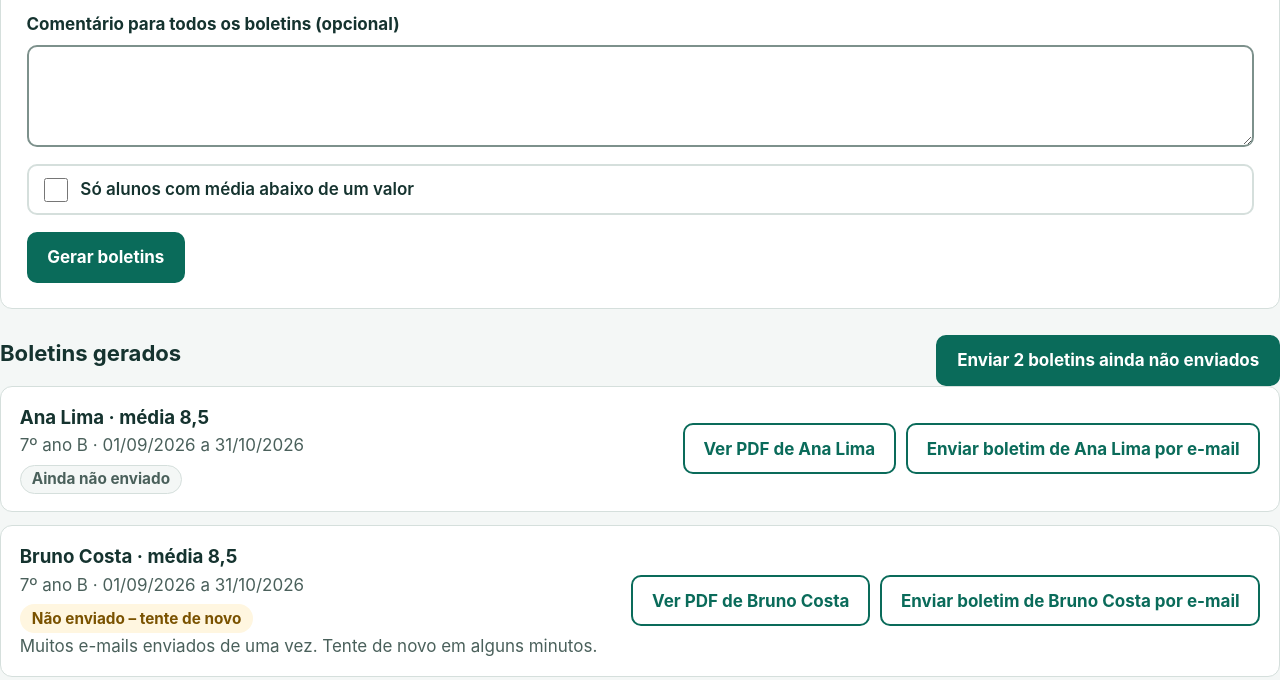
Test case: sending bulletins › sends every pending bulletin together and reports failures
This screenshot has width=1280, height=680.
(page scrolled)
Click the button "Enviar 2 boletins ainda não enviados".
click(1108, 360)  # box [936,334,1279,386]
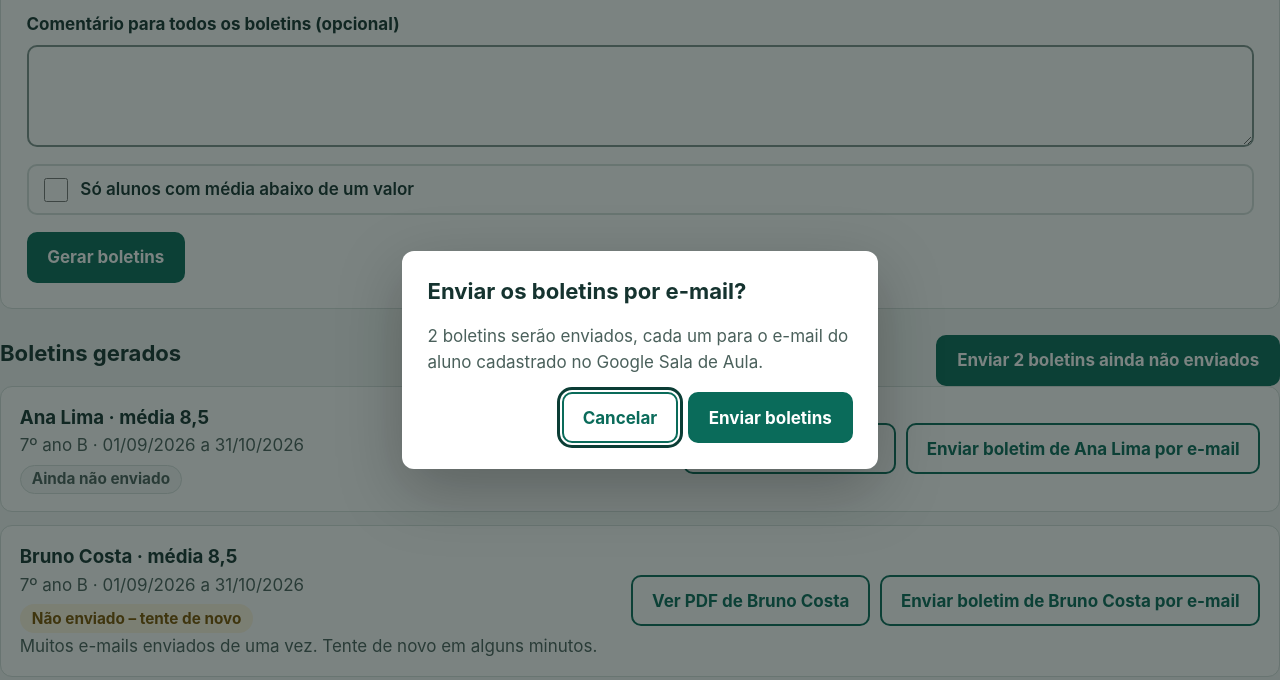
Click the button "Enviar boletins".
click(770, 418)  # box [688,392,852,443]
(page scrolled)
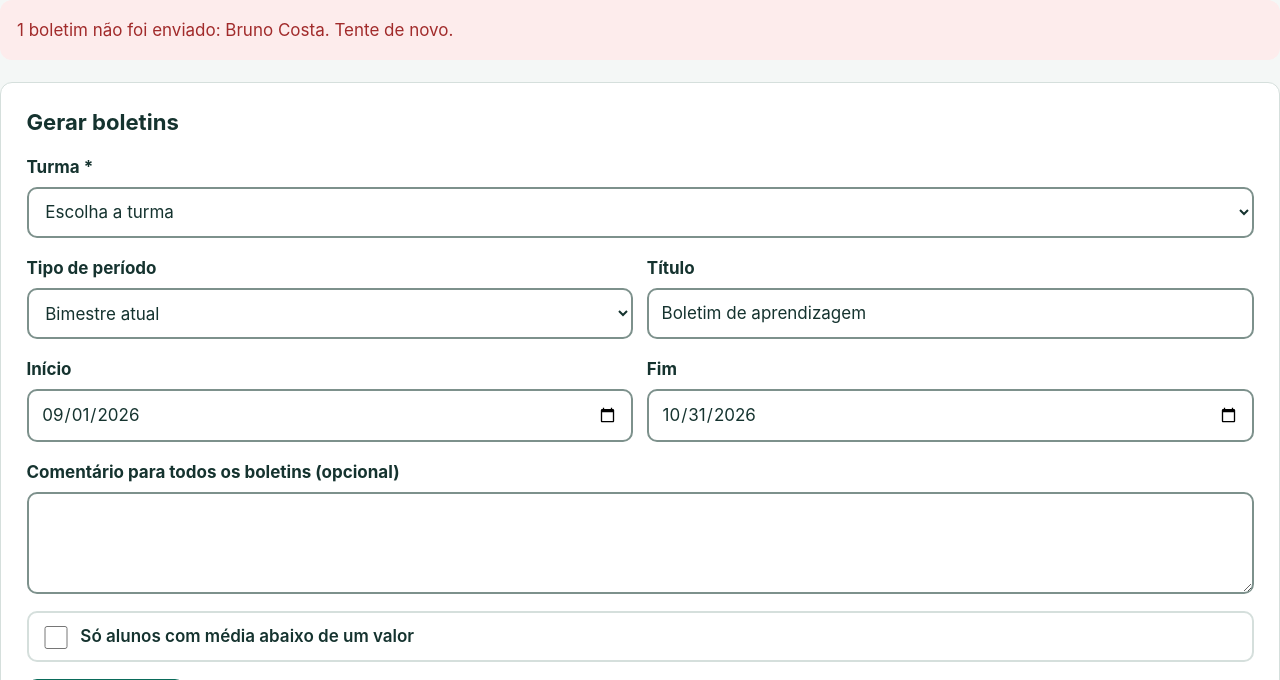
Expected: the message reads "1 boletim não foi enviado: Bruno Costa. Tente de novo.", [17,20,453,40]
